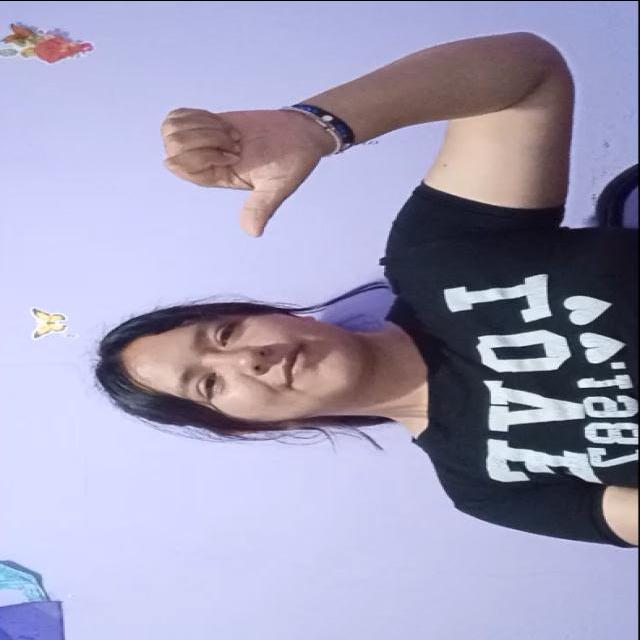A: (146, 88, 360, 268)
